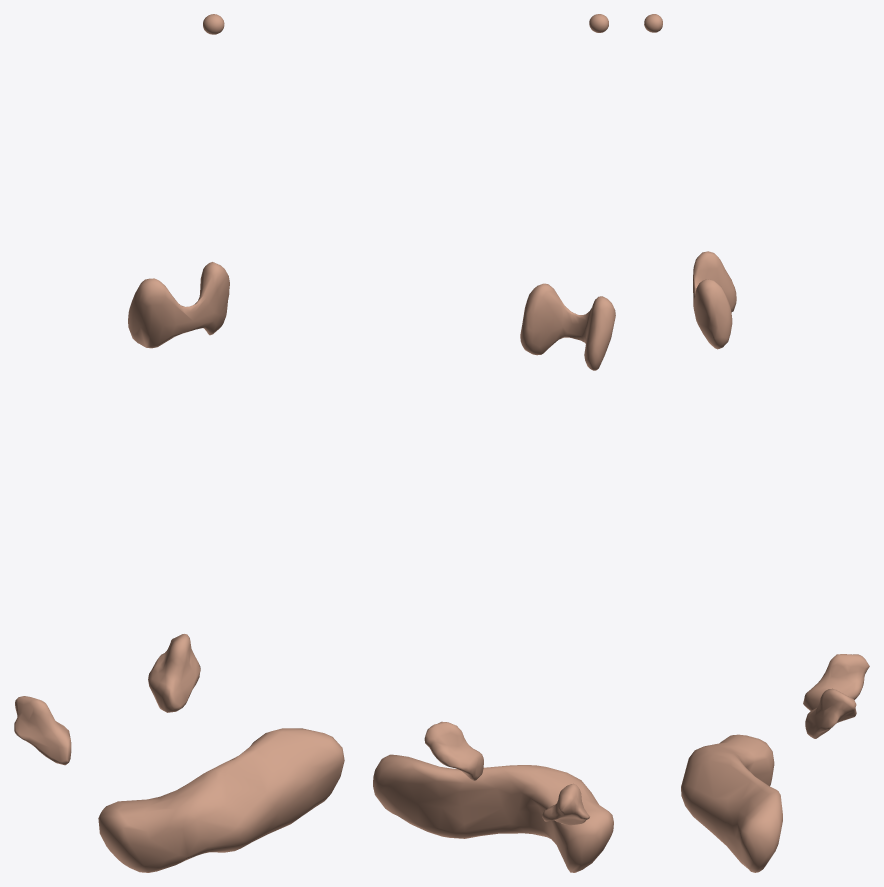
File: pediatric_child_10y_male.endocrine.LOD1.glb
3 views of the same model, side by side, from view 1: azimuth 30°, elevation 25°; view 2: azimuth 150°, elevation 25°; view 3: azimuth 270°, elevation 25° (orthographic). The views are drawn at different scales.
Visible parts, largest first — view 1: PEDIATRIC.CHILD_10Y.MALE.ENDOCRINE.PANCREAS, PEDIATRIC.CHILD_10Y.MALE.ENDOCRINE.THYROID, PEDIATRIC.CHILD_10Y.MALE.ENDOCRINE.ADRENAL.L, PEDIATRIC.CHILD_10Y.MALE.ENDOCRINE.ADRENAL.R; view 2: PEDIATRIC.CHILD_10Y.MALE.ENDOCRINE.PANCREAS, PEDIATRIC.CHILD_10Y.MALE.ENDOCRINE.THYROID, PEDIATRIC.CHILD_10Y.MALE.ENDOCRINE.ADRENAL.L, PEDIATRIC.CHILD_10Y.MALE.ENDOCRINE.ADRENAL.R; view 3: PEDIATRIC.CHILD_10Y.MALE.ENDOCRINE.PANCREAS, PEDIATRIC.CHILD_10Y.MALE.ENDOCRINE.THYROID, PEDIATRIC.CHILD_10Y.MALE.ENDOCRINE.ADRENAL.R, PEDIATRIC.CHILD_10Y.MALE.ENDOCRINE.ADRENAL.L.
Part boxes in pixels (bbox=[...]): PEDIATRIC.CHILD_10Y.MALE.ENDOCRINE.PANCREAS: bbox=[98, 728, 344, 872]; PEDIATRIC.CHILD_10Y.MALE.ENDOCRINE.THYROID: bbox=[128, 262, 229, 348]; PEDIATRIC.CHILD_10Y.MALE.ENDOCRINE.ADRENAL.L: bbox=[148, 634, 200, 712]; PEDIATRIC.CHILD_10Y.MALE.ENDOCRINE.ADRENAL.R: bbox=[14, 696, 71, 765]; PEDIATRIC.CHILD_10Y.MALE.ENDOCRINE.PANCREAS: bbox=[373, 754, 613, 872]; PEDIATRIC.CHILD_10Y.MALE.ENDOCRINE.THYROID: bbox=[520, 283, 615, 370]; PEDIATRIC.CHILD_10Y.MALE.ENDOCRINE.ADRENAL.L: bbox=[424, 721, 483, 780]; PEDIATRIC.CHILD_10Y.MALE.ENDOCRINE.ADRENAL.R: bbox=[542, 783, 589, 825]; PEDIATRIC.CHILD_10Y.MALE.ENDOCRINE.PANCREAS: bbox=[681, 734, 782, 872]; PEDIATRIC.CHILD_10Y.MALE.ENDOCRINE.THYROID: bbox=[693, 251, 736, 349]; PEDIATRIC.CHILD_10Y.MALE.ENDOCRINE.ADRENAL.R: bbox=[803, 654, 869, 710]; PEDIATRIC.CHILD_10Y.MALE.ENDOCRINE.ADRENAL.L: bbox=[805, 688, 856, 738].
Size of the model in its own units: 0.1333 by 0.4041 by 0.1034.
